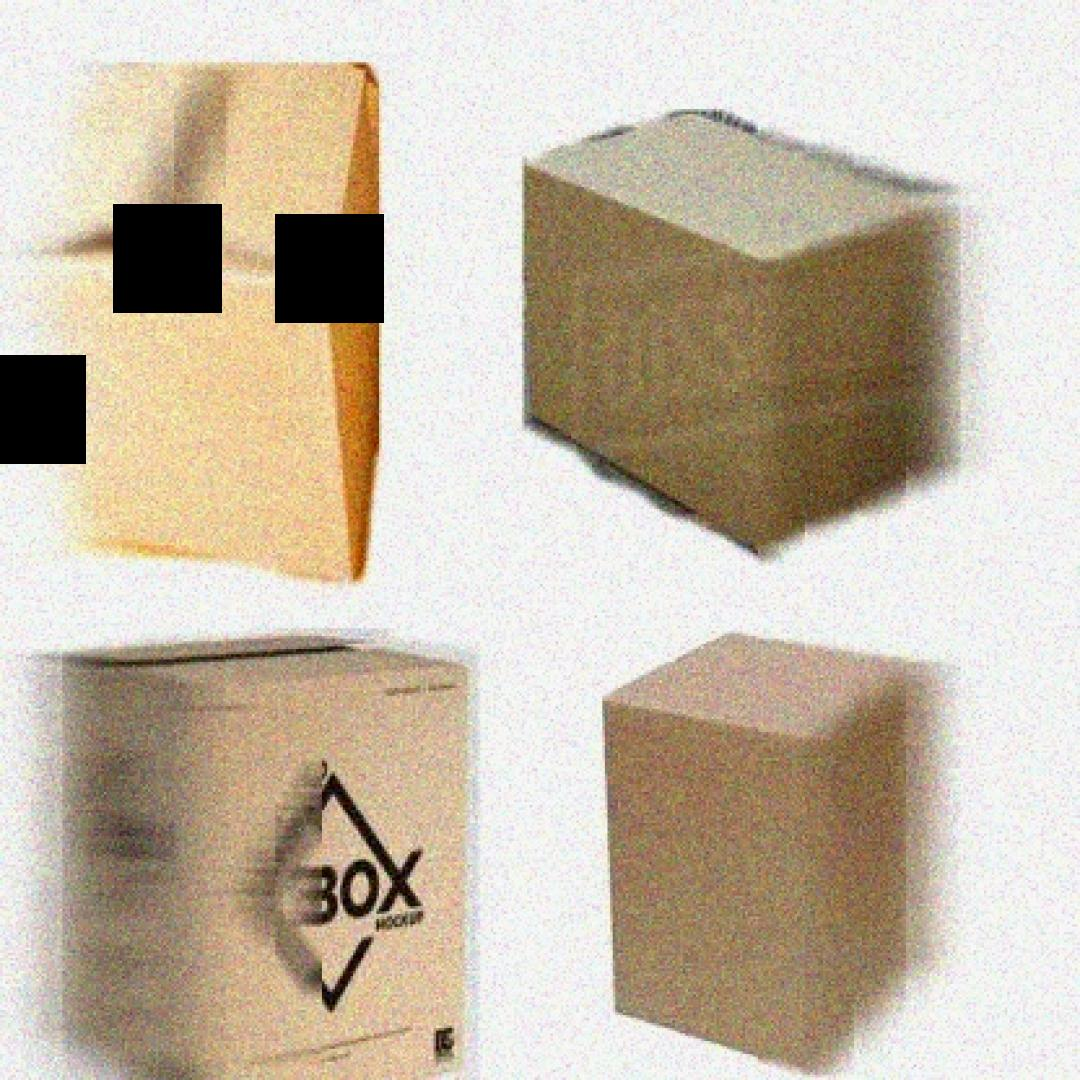package: (524, 116, 950, 550), (60, 638, 470, 1074), (52, 68, 371, 576), (605, 633, 935, 1075)
